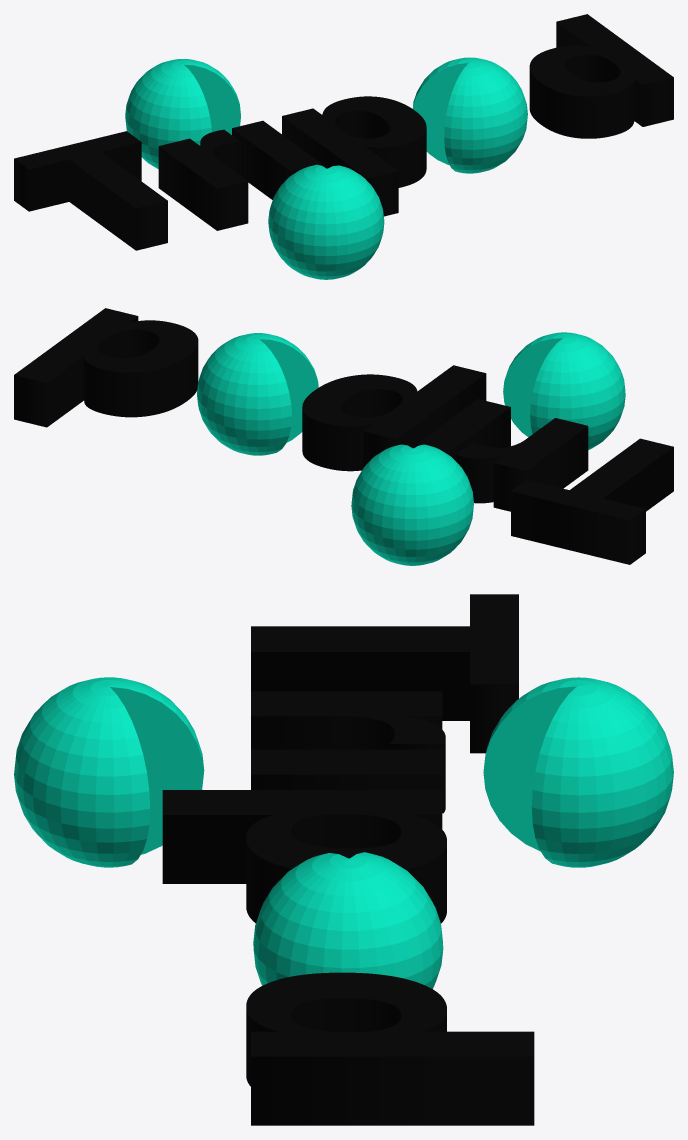
The model's file is tripod.gltf.
The picture shows the model from 3 angles, top to bottom: view 1: azimuth 30°, elevation 25°; view 2: azimuth 150°, elevation 25°; view 3: azimuth 270°, elevation 25°; orthographic projection. The views are drawn at different scales.
Visible parts, largest first — view 1: Text, Sphere.002, Sphere.001, Sphere; view 2: Text, Sphere, Sphere.001, Sphere.002; view 3: Text, Sphere, Sphere.002, Sphere.001.
Part boxes in pixels (x1,y1,x2,y2): Text: (14, 14, 673, 250); Sphere.002: (268, 164, 384, 279); Sphere.001: (412, 57, 527, 173); Sphere: (125, 59, 240, 169); Text: (14, 308, 673, 564); Sphere: (351, 444, 473, 565); Sphere.001: (197, 333, 318, 455); Sphere.002: (503, 332, 625, 449); Text: (162, 594, 534, 1125); Sphere: (483, 677, 673, 867); Sphere.002: (14, 677, 204, 867); Sphere.001: (253, 852, 443, 989).
Bounding box in the file's own units: 4.62 × 0.8042 × 2.79.
